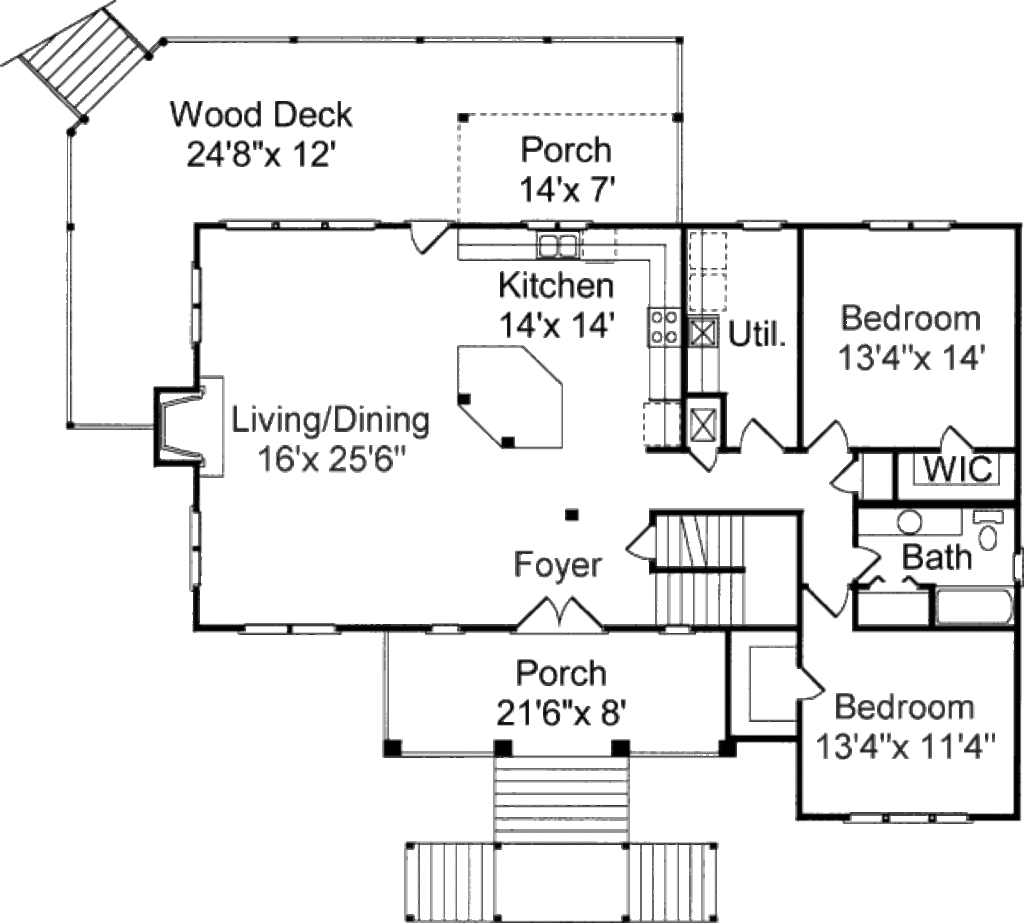door: (517, 597, 600, 636), (802, 576, 852, 616), (401, 219, 454, 256), (737, 418, 788, 450), (810, 419, 848, 456), (934, 421, 980, 450), (797, 663, 829, 703), (848, 541, 881, 578), (828, 463, 859, 494), (629, 523, 651, 564)
large_sink: (965, 508, 1005, 551)
stairs: (401, 748, 722, 923), (19, 7, 149, 112), (653, 513, 754, 630)
tub: (935, 585, 1020, 634)
twin_sink: (533, 233, 584, 264)
windows: (222, 215, 383, 236), (845, 806, 977, 823), (185, 503, 206, 591), (235, 620, 349, 635), (856, 219, 955, 234), (189, 256, 205, 344), (733, 217, 787, 235)
